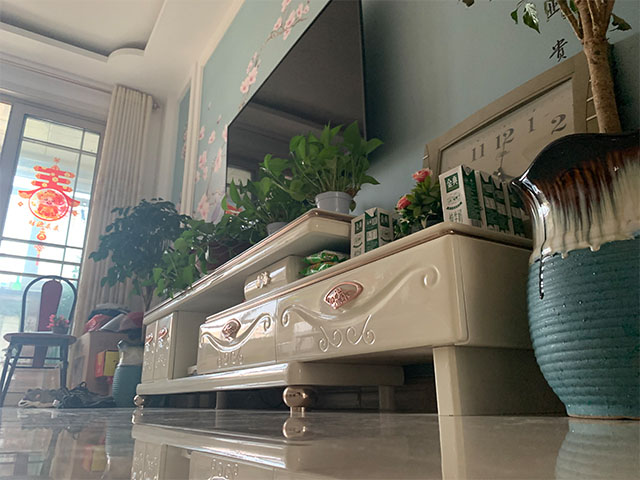cabinet: (132, 204, 570, 415)
curtain: (82, 85, 152, 305)
stool: (1, 274, 82, 404)
